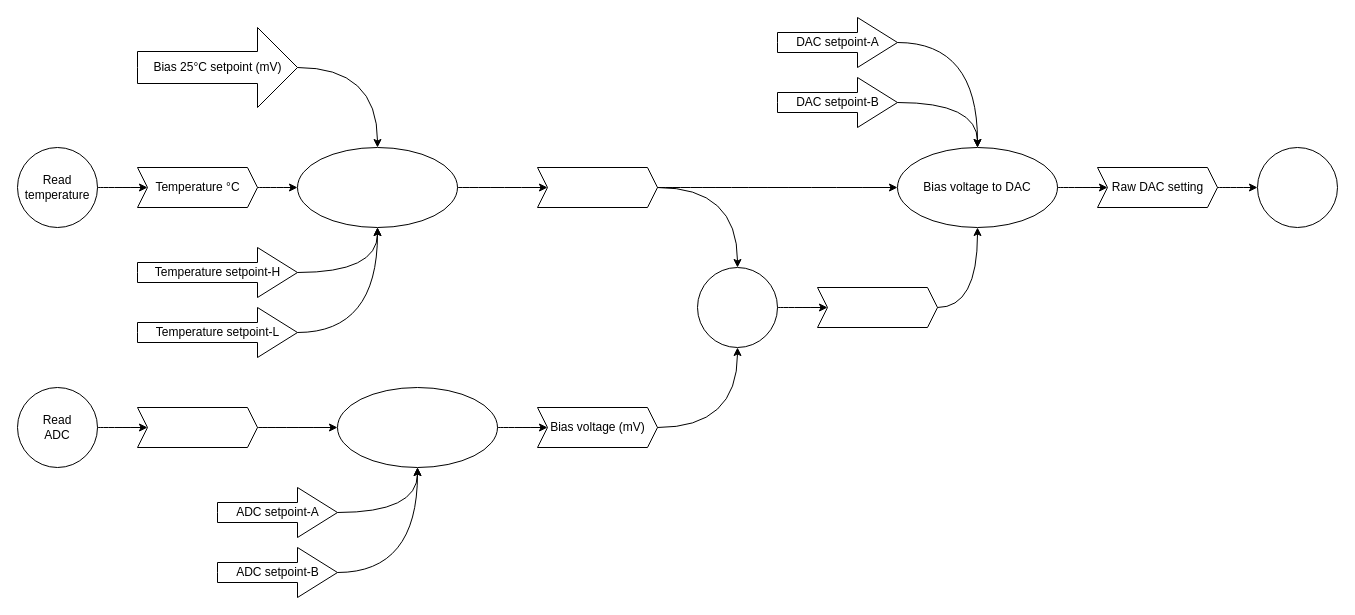
Some shapes in this 1355 by 615 pixel diagram are drawn without their labels. The box of each missing label's shape, as (x1, y1, x2, y2) in pixels:
ADC to bias voltage: (336, 386, 498, 468)
Bias ADC reading: (136, 406, 258, 448)
Bias error (mV): (816, 286, 938, 328)
Bias setpoint (mV): (536, 166, 658, 208)
Difference: (696, 266, 778, 348)
Set DAC: (1256, 146, 1338, 228)
Temperature to bias setpoint: (296, 146, 458, 228)
